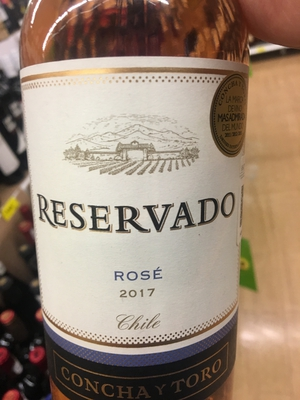reservado rose: (20, 12, 252, 400)
